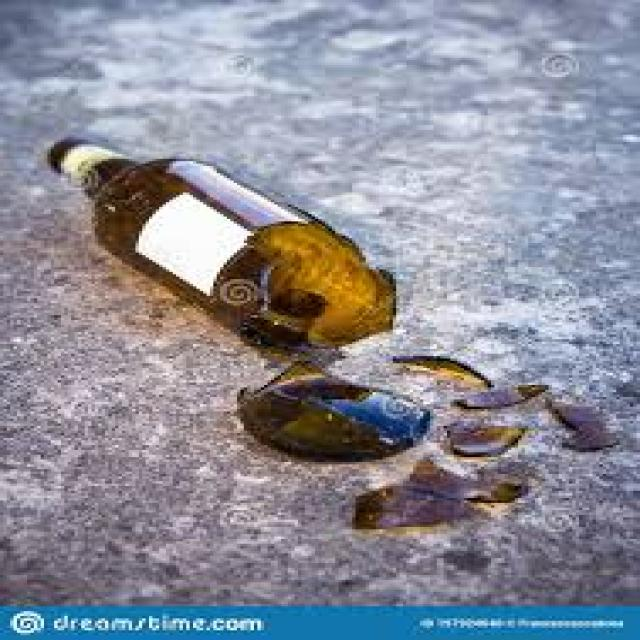glass: (44, 137, 396, 354), (231, 358, 424, 462), (349, 457, 521, 529), (549, 397, 620, 452), (393, 349, 491, 387), (434, 419, 529, 455), (450, 383, 542, 409), (467, 465, 525, 501)
